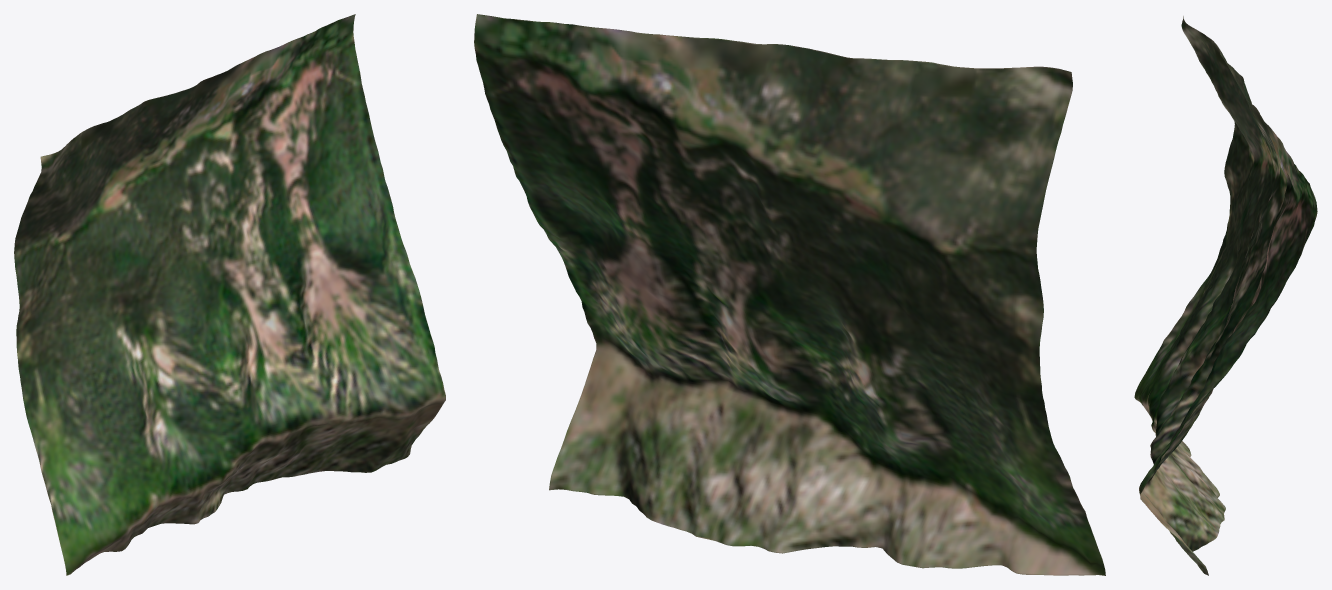
Rendered from ground_far_01_03.obj.
The picture shows the model from 3 angles, left to right: view 1: azimuth 30°, elevation 25°; view 2: azimuth 150°, elevation 25°; view 3: azimuth 270°, elevation 25°; orthographic projection. The views are drawn at different scales.
Visible parts, largest first — view 1: ground_far_01_03; view 2: ground_far_01_03; view 3: ground_far_01_03.
Part boxes in pixels (x1,y1,x2,y2): ground_far_01_03: (14,14,445,575); ground_far_01_03: (474,14,1105,575); ground_far_01_03: (1134,16,1317,575).
Size of the model in its own units: 2000 by 2000 by 866.
Materials: 1 (1 with a texture image).
